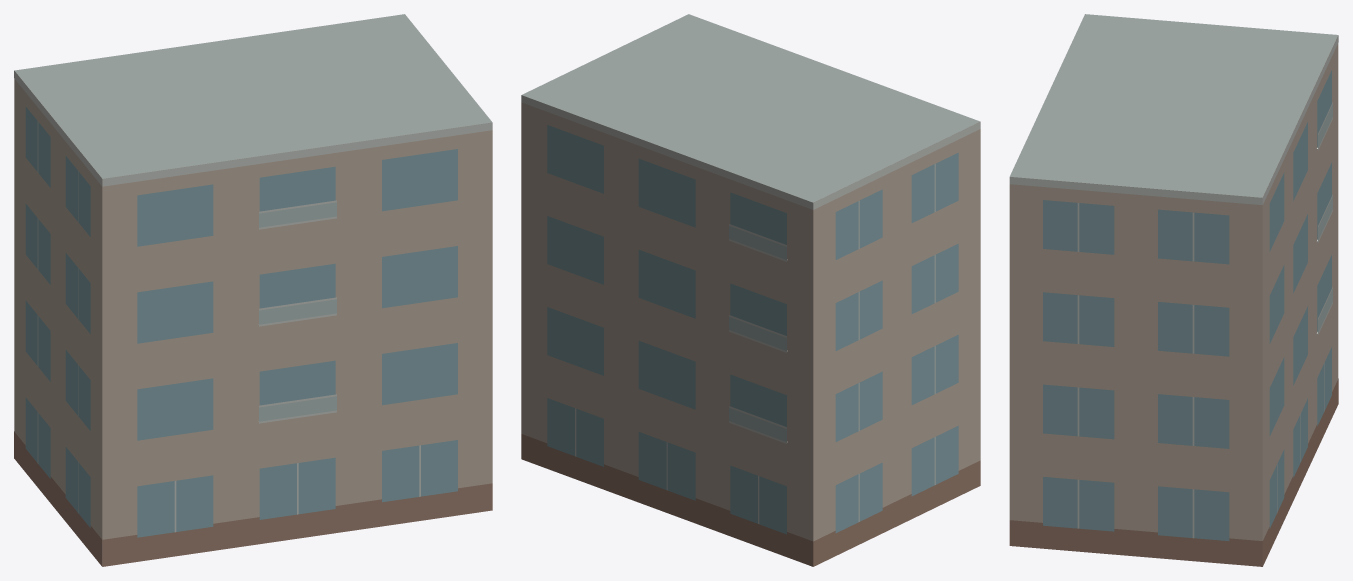
File: residential-63908420-291a-4051-9df1-deada6bc666d.glb
The picture shows the model from 3 angles, left to right: view 1: azimuth 30°, elevation 25°; view 2: azimuth 150°, elevation 25°; view 3: azimuth 270°, elevation 25°; orthographic projection. The views are drawn at different scales.
Visible parts, largest first — view 1: residential-63908420-291a-4051-9df1-deada6bc666d.tmp; view 2: residential-63908420-291a-4051-9df1-deada6bc666d.tmp; view 3: residential-63908420-291a-4051-9df1-deada6bc666d.tmp.
Boxes of the visible parts, <box> form: residential-63908420-291a-4051-9df1-deada6bc666d.tmp: <box>14,14,492,566</box>; residential-63908420-291a-4051-9df1-deada6bc666d.tmp: <box>521,14,980,566</box>; residential-63908420-291a-4051-9df1-deada6bc666d.tmp: <box>1009,14,1338,566</box>.
Bounding box in the file's own units: 13.04 × 12.2 × 9.86.
